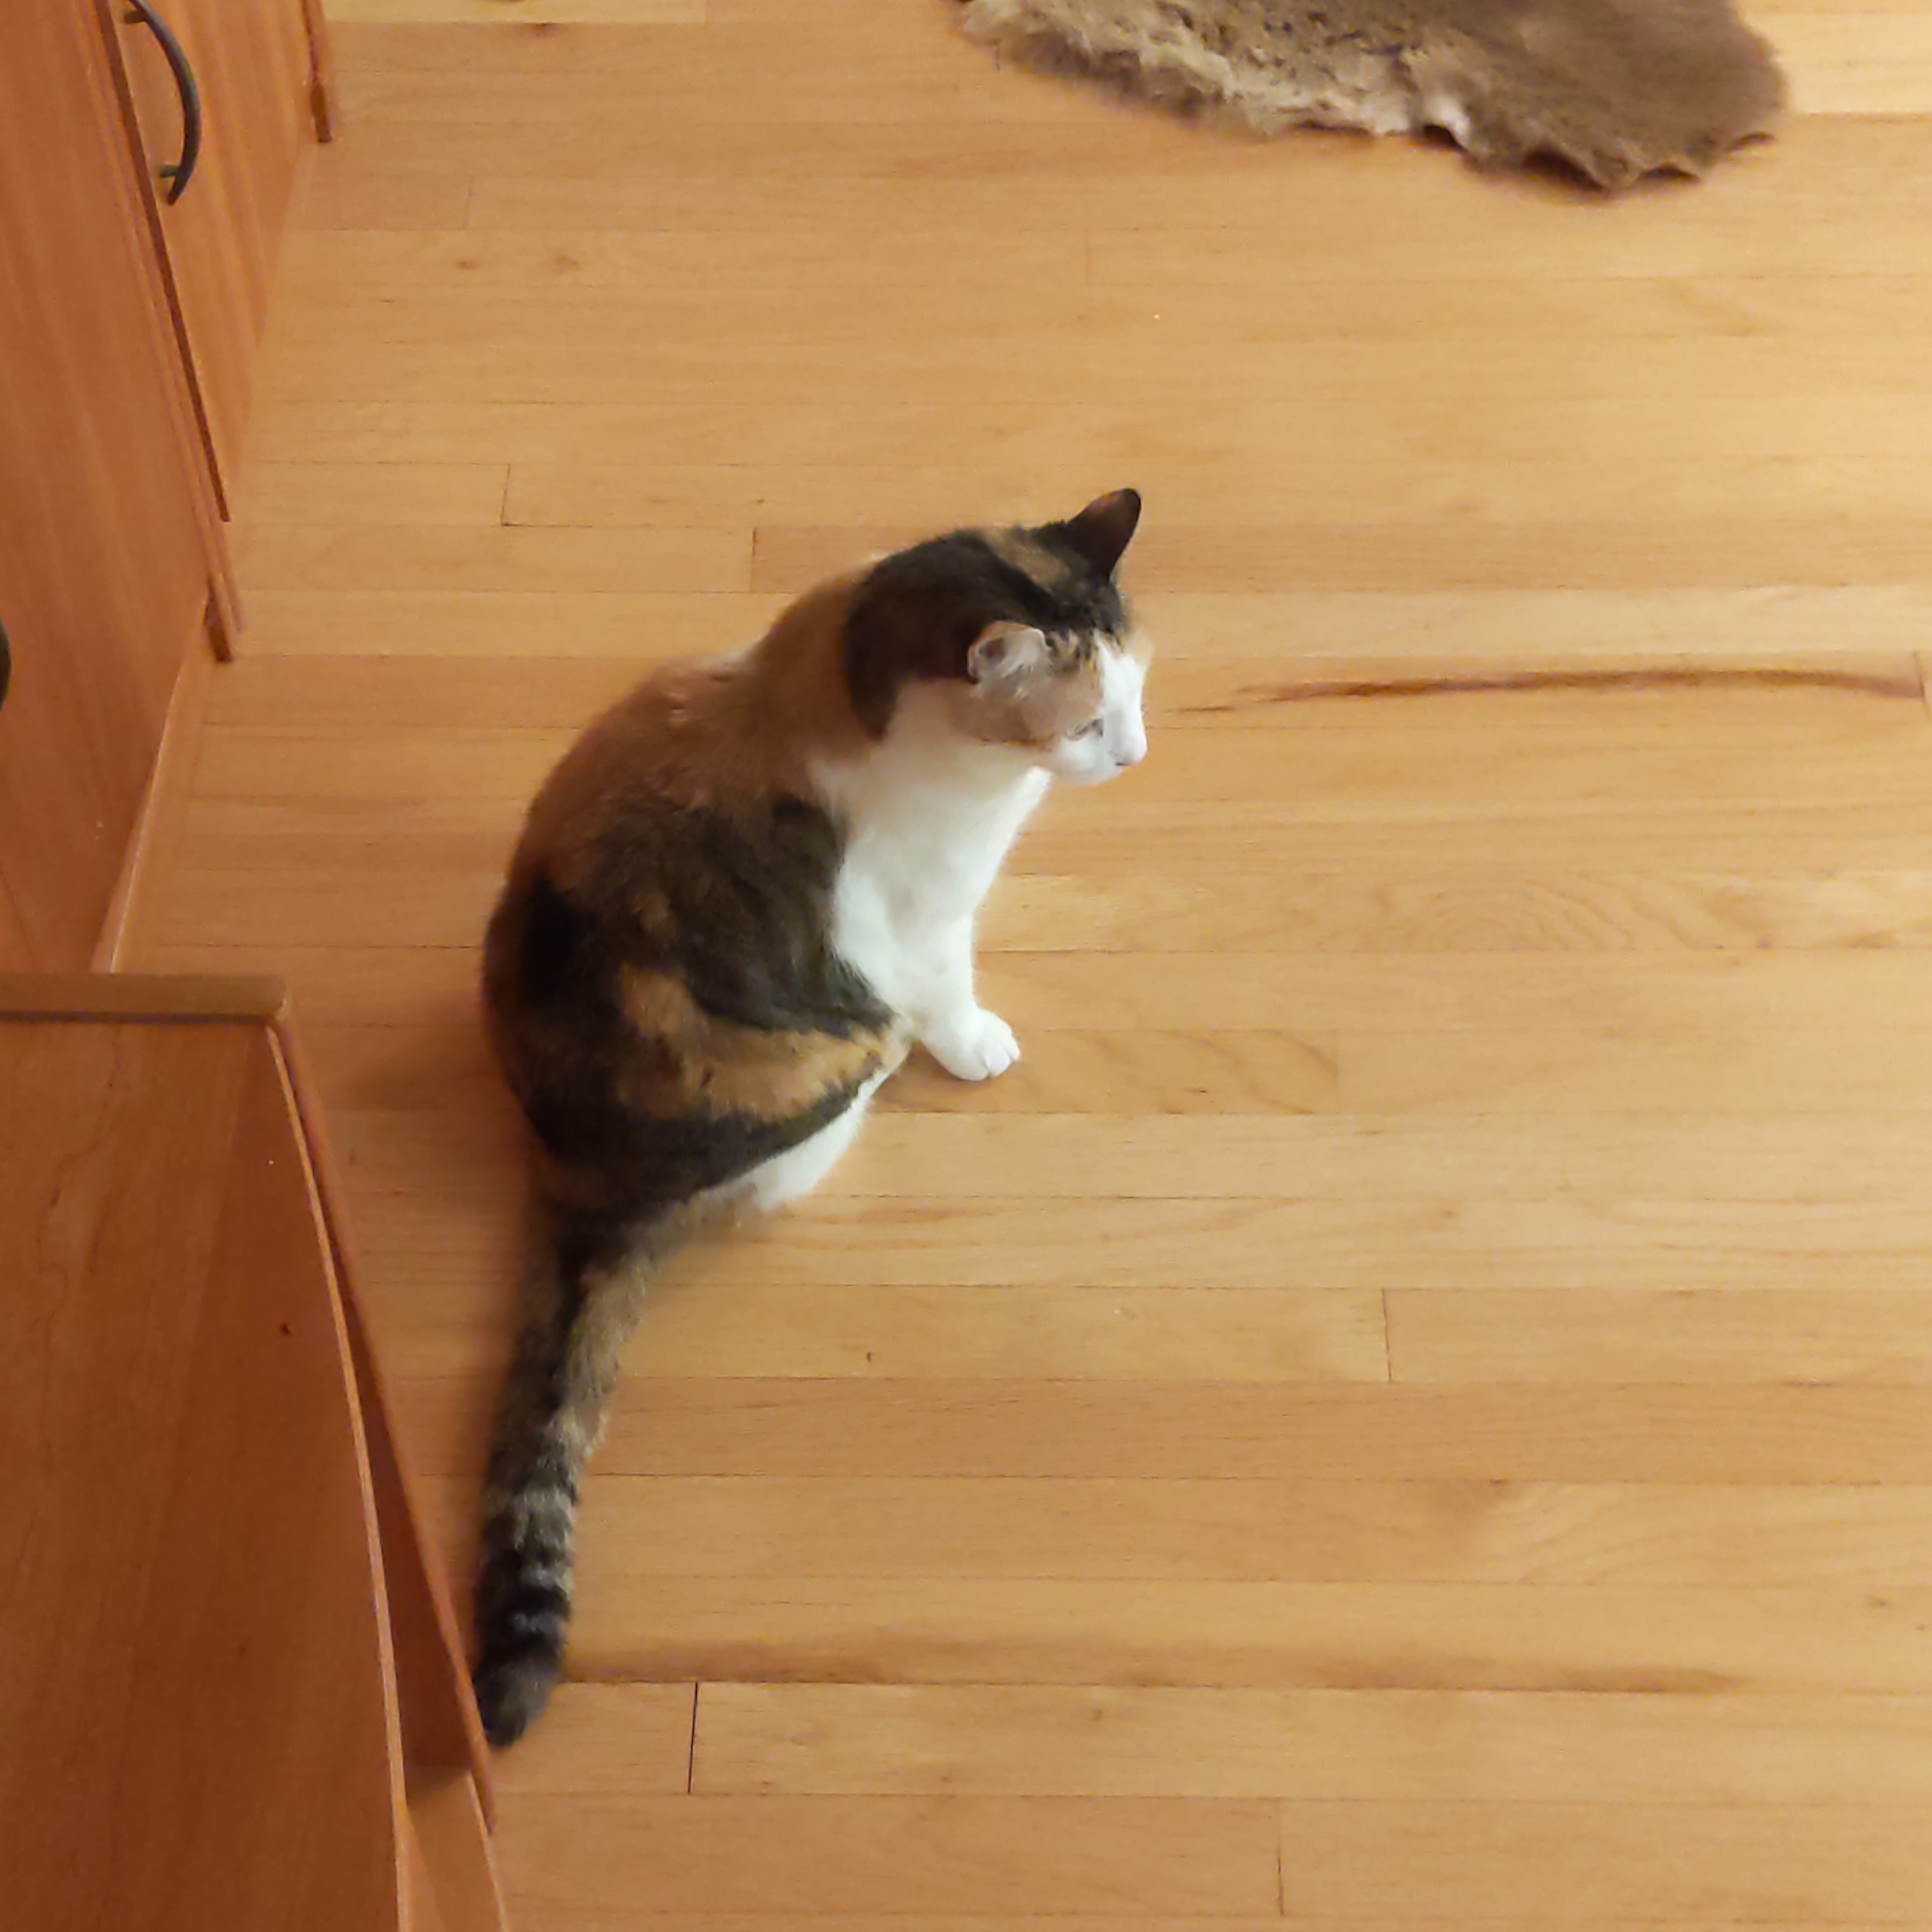Calico: (467, 485, 1157, 1744)
